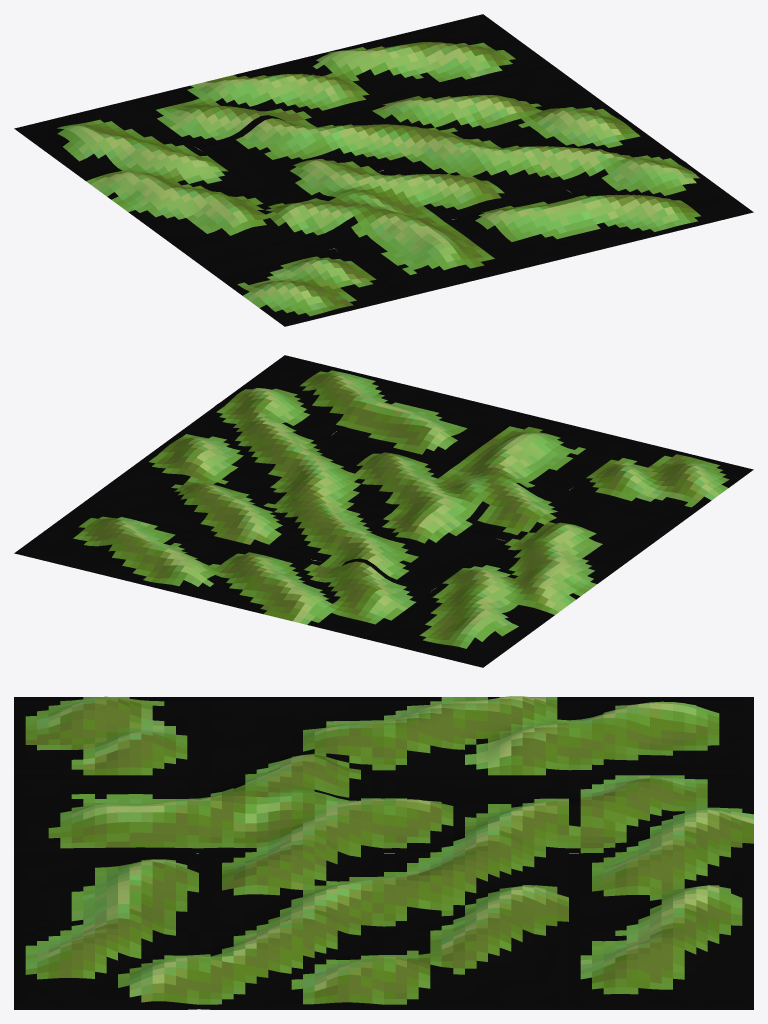
The model's file is hills.glb.
3 views of the same model, one above another, from view 1: azimuth 30°, elevation 25°; view 2: azimuth 150°, elevation 25°; view 3: azimuth 270°, elevation 25° (orthographic). The views are drawn at different scales.
Visible parts, largest first — view 1: hills3, hills11, hills1, hills7, hills2, hills9, hills15, hills10, hills0, hills5, hills6, hills13 (+4 smaller); view 2: hills6, hills14, hills4, hills2, hills7, hills12, hills15, hills10, hills5, hills0, hills3, hills13 (+4 smaller); view 3: hills8, hills12, hills13, hills9, hills5, hills1, hills0, hills4, hills10, hills14, hills11, hills15 (+4 smaller).
Boxes of the visible parts, x1=… form: hills3: x1=150, y1=196, x2=333, y2=277; hills11: x1=384, y1=139, x2=568, y2=219; hills1: x1=335, y1=217, x2=518, y2=297; hills7: x1=199, y1=118, x2=383, y2=198; hills2: x1=452, y1=191, x2=635, y2=269; hills9: x1=569, y1=160, x2=753, y2=240; hills15: x1=267, y1=168, x2=451, y2=248; hills10: x1=249, y1=43, x2=432, y2=120; hills0: x1=217, y1=248, x2=401, y2=326; hills5: x1=82, y1=147, x2=265, y2=227; hills6: x1=132, y1=71, x2=315, y2=148; hills13: x1=501, y1=110, x2=685, y2=190; hills6: x1=249, y1=558, x2=432, y2=638; hills14: x1=199, y1=480, x2=382, y2=560; hills4: x1=366, y1=587, x2=550, y2=667; hills2: x1=335, y1=384, x2=518, y2=461; hills7: x1=316, y1=509, x2=500, y2=589; hills12: x1=82, y1=451, x2=266, y2=532; hills15: x1=384, y1=459, x2=568, y2=539; hills10: x1=132, y1=532, x2=315, y2=610; hills5: x1=434, y1=537, x2=617, y2=618; hills0: x1=569, y1=441, x2=753, y2=518; hills3: x1=501, y1=490, x2=685, y2=568; hills13: x1=150, y1=402, x2=333, y2=482; hills8: x1=569, y1=913, x2=753, y2=1009; hills12: x1=384, y1=913, x2=568, y2=1009; hills13: x1=199, y1=913, x2=383, y2=1009; hills9: x1=14, y1=913, x2=198, y2=1009; hills5: x1=384, y1=696, x2=568, y2=775; hills1: x1=14, y1=775, x2=198, y2=853; hills0: x1=14, y1=696, x2=198, y2=775; hills4: x1=569, y1=697, x2=753, y2=775; hills10: x1=569, y1=835, x2=753, y2=931; hills14: x1=384, y1=835, x2=568, y2=931; hills11: x1=199, y1=835, x2=383, y2=931; hills15: x1=199, y1=756, x2=383, y2=853.
Size of the model in its own units: 4 by 0.117 by 4.
1 material, 1 textured.
